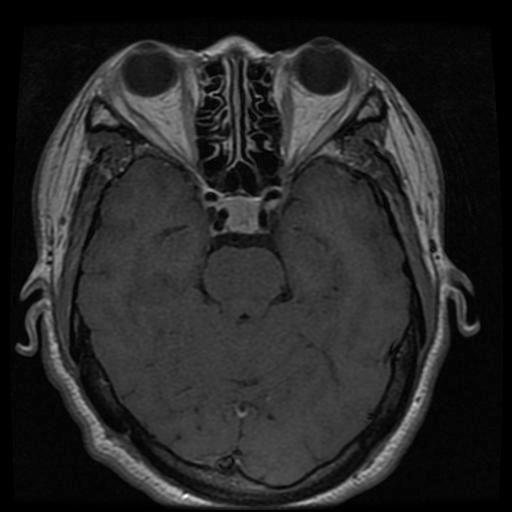Tumour-Pituitary: (189, 185, 290, 244)
